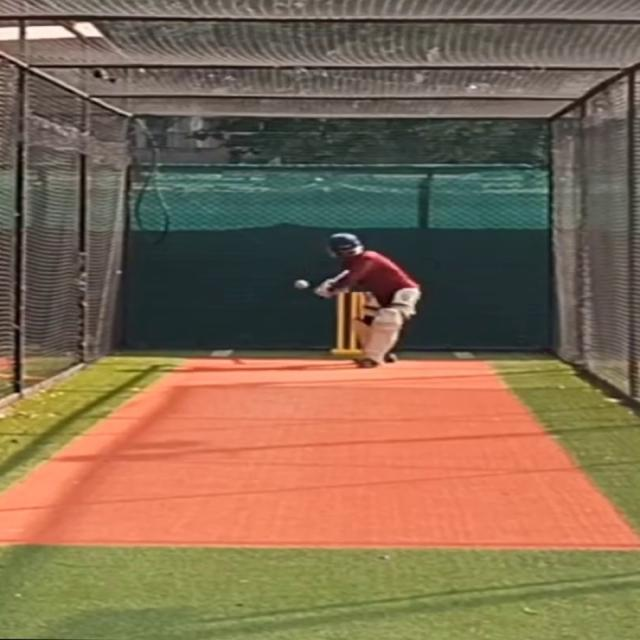ball: (293, 278, 309, 289)
stump: (333, 291, 365, 354)
